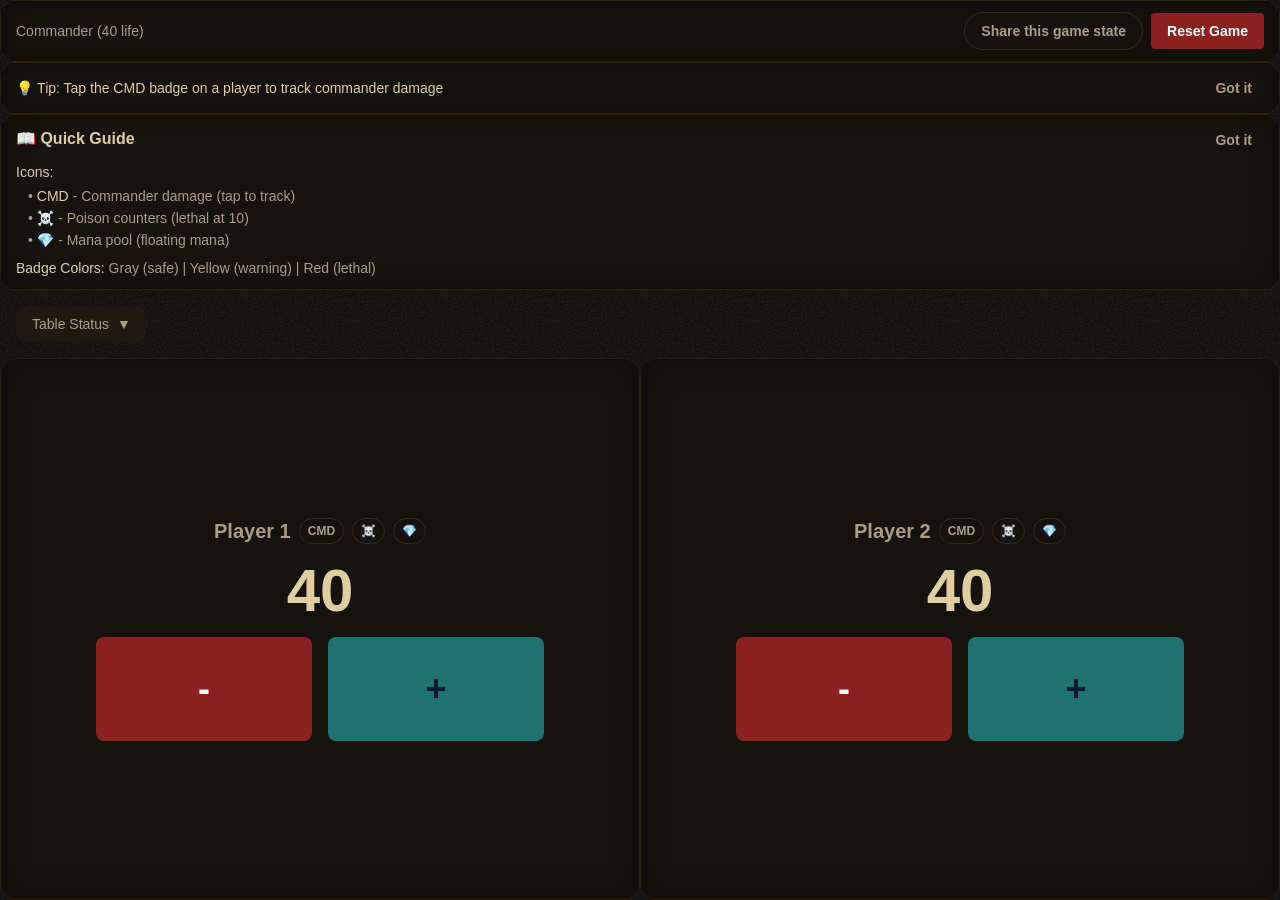
LifeTracker › dismisses banner when Got it button is clicked
expect the element with test id "commander-tip-banner" is shown: met, box [0,62,1279,114]
Click the button with aria-label "dismiss tip": (1234, 88) [1204,74,1264,102]
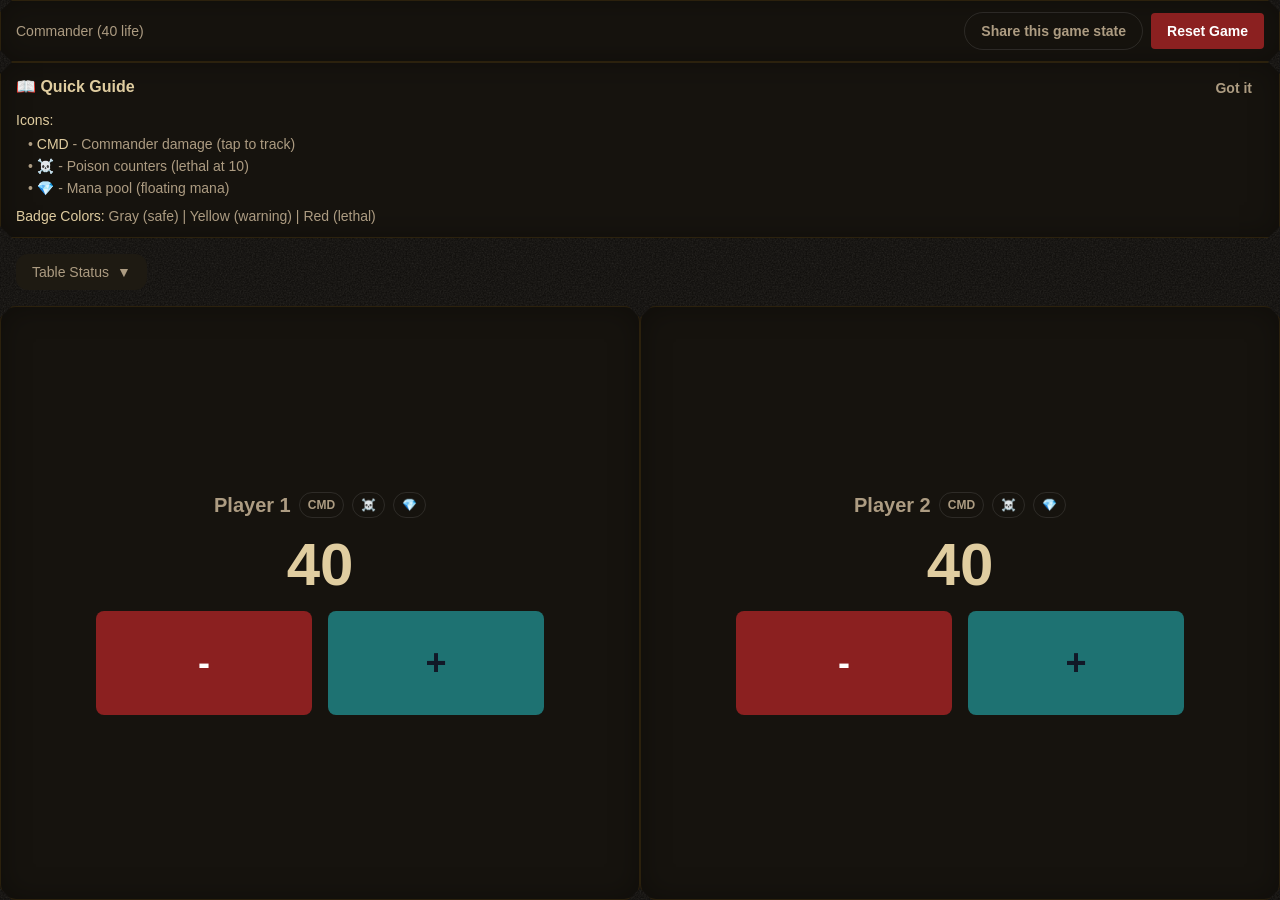
expect the element with test id "commander-tip-banner" is gone: met
